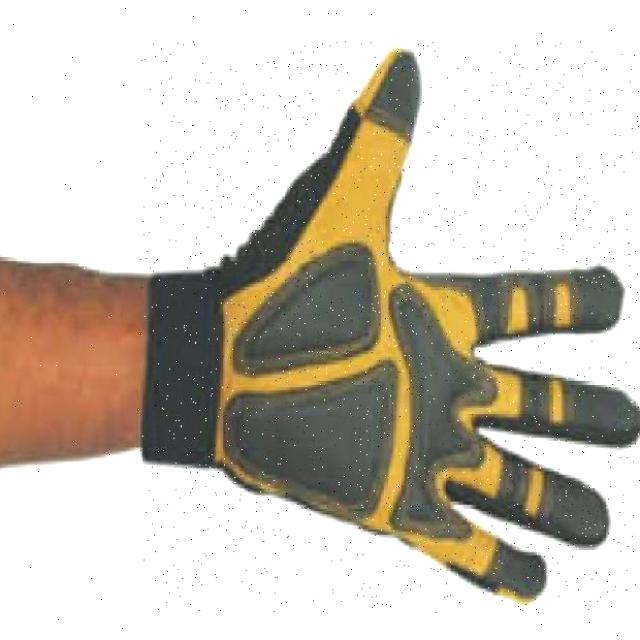Gloves: (142, 50, 640, 599)
